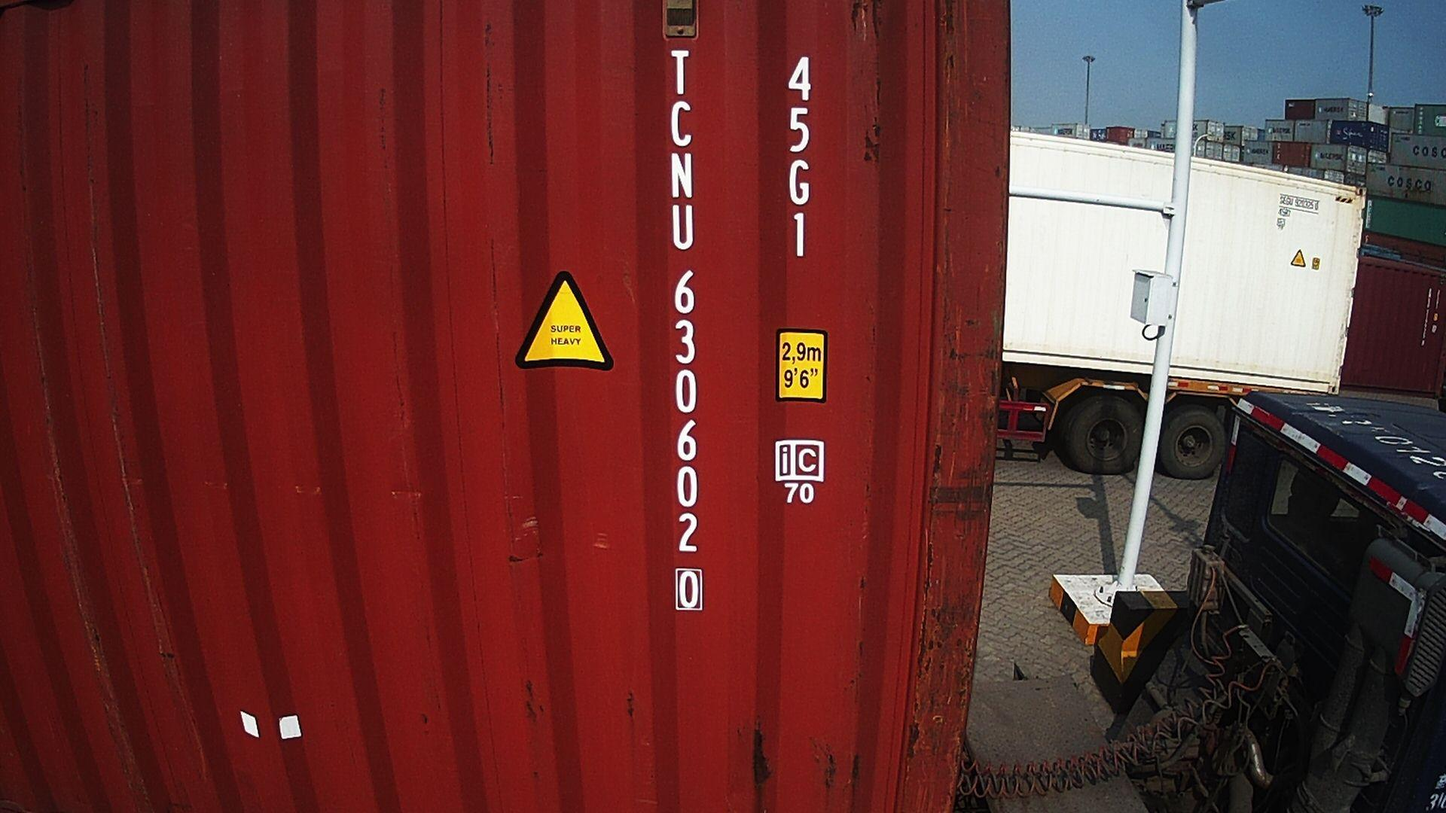container-numbers: (660, 46, 706, 621), (778, 52, 819, 265)
